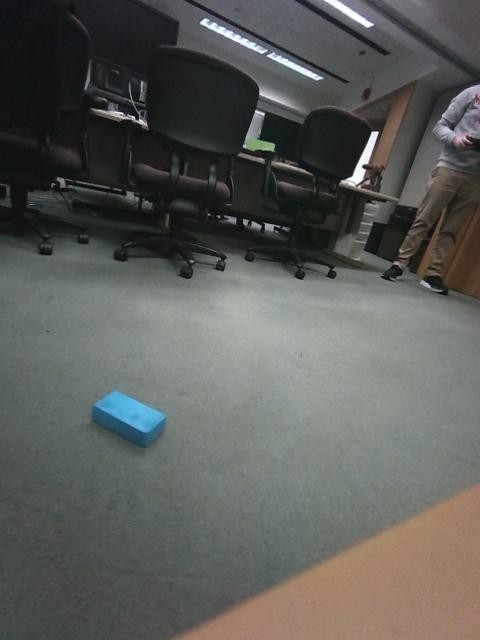block: (73, 331, 154, 372)
